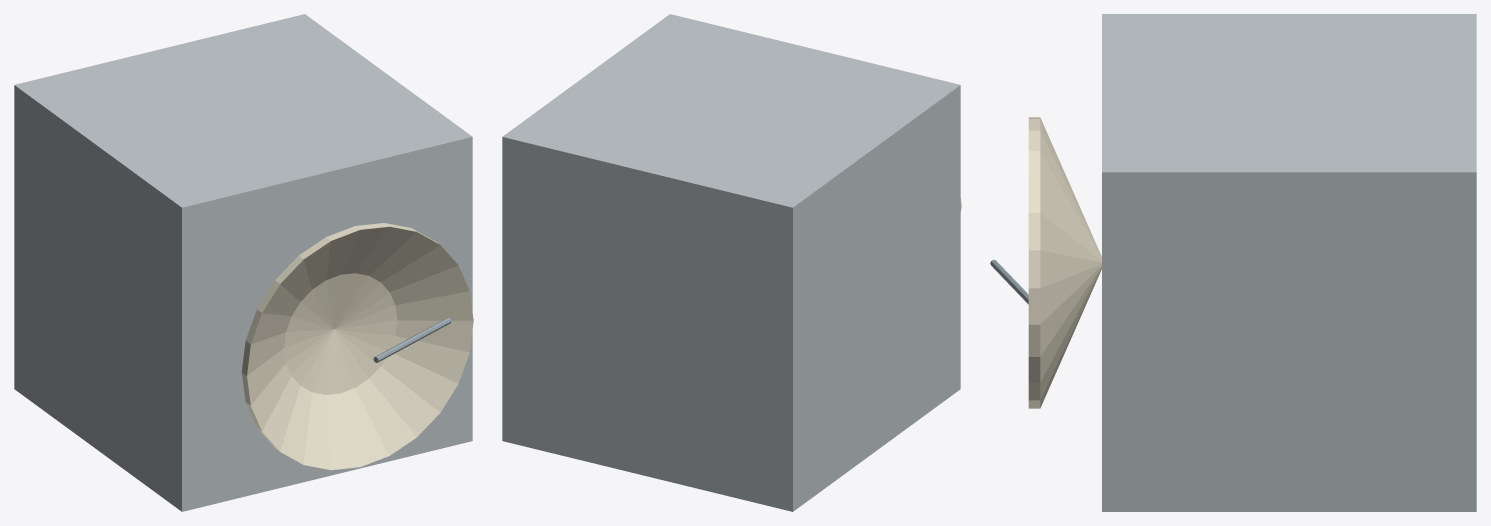
Rendered from ref-sstl-42-43113.glb.
The picture shows the model from 3 angles, left to right: view 1: azimuth 30°, elevation 25°; view 2: azimuth 150°, elevation 25°; view 3: azimuth 270°, elevation 25°; orthographic projection. The views are drawn at different scales.
Visible parts, largest first — view 1: Spacecraft body, Reflector dish, Feed support; view 2: Spacecraft body; view 3: Spacecraft body, Reflector dish.
Boxes of the visible parts, left/top/right/bottom form: Spacecraft body: left=14, top=14, right=472, bottom=511; Reflector dish: left=241, top=223, right=473, bottom=470; Feed support: left=373, top=318, right=451, bottom=362; Spacecraft body: left=502, top=14, right=960, bottom=511; Spacecraft body: left=1102, top=14, right=1476, bottom=511; Reflector dish: left=1028, top=117, right=1101, bottom=408.
Bounding box in the file's own units: 0.7 × 0.7 × 0.909.
